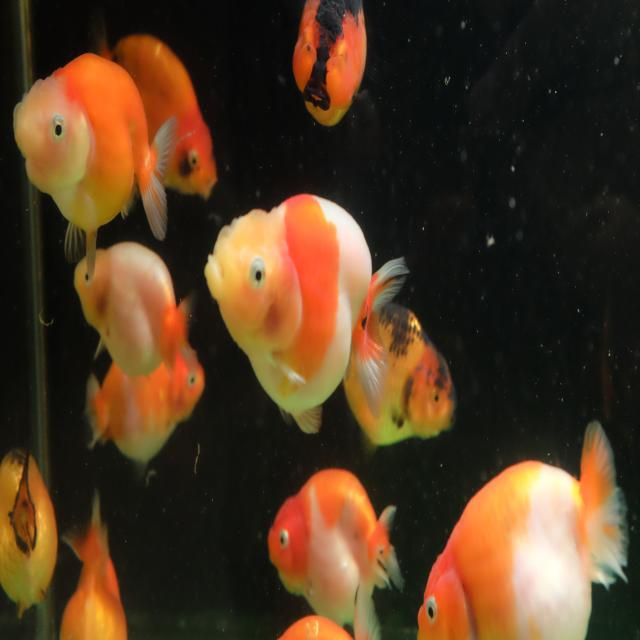Tilapia: (203, 192, 409, 436), (416, 422, 632, 640), (11, 49, 178, 285), (267, 466, 405, 630), (95, 18, 218, 202), (72, 239, 197, 382), (341, 302, 456, 456), (83, 335, 205, 467), (57, 487, 129, 640), (290, 0, 370, 135), (0, 444, 60, 622)
